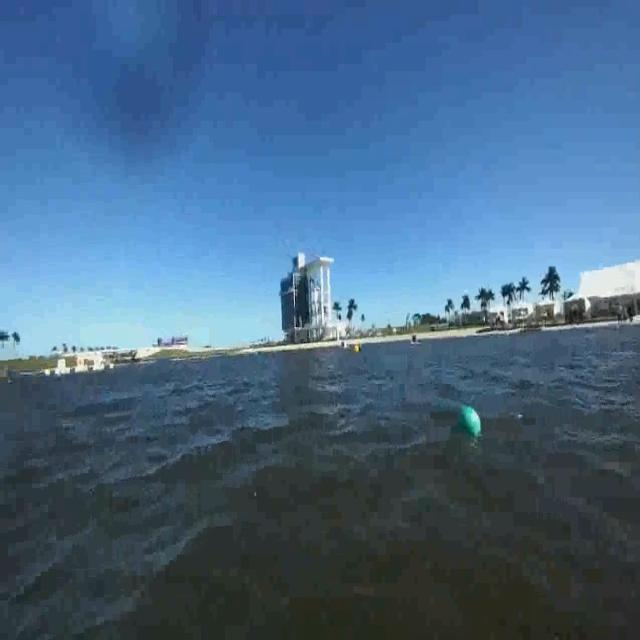green-buoy: (456, 406, 481, 439)
yellow-buoy: (354, 344, 361, 355)
